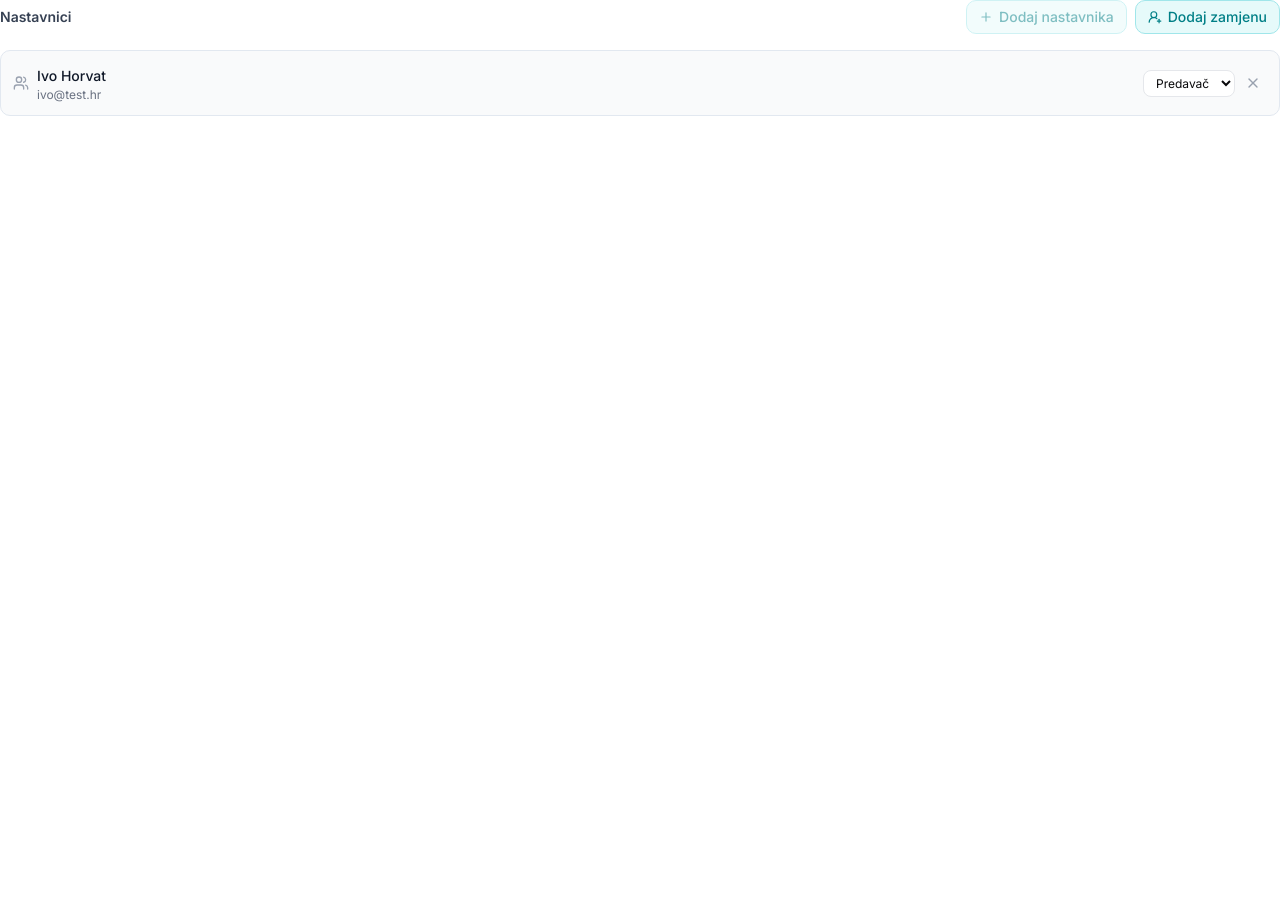
Test: GroupTeachersPanel — Dodaj zamjenu termini › says so inline when the termini cannot be loaded
This screenshot has width=1280, height=900.
What coordinates should you click on to do the following:
click the button "Dodaj zamjenu"
I would click on:
 (1207, 17)
Its box is [1135,0,1279,34].
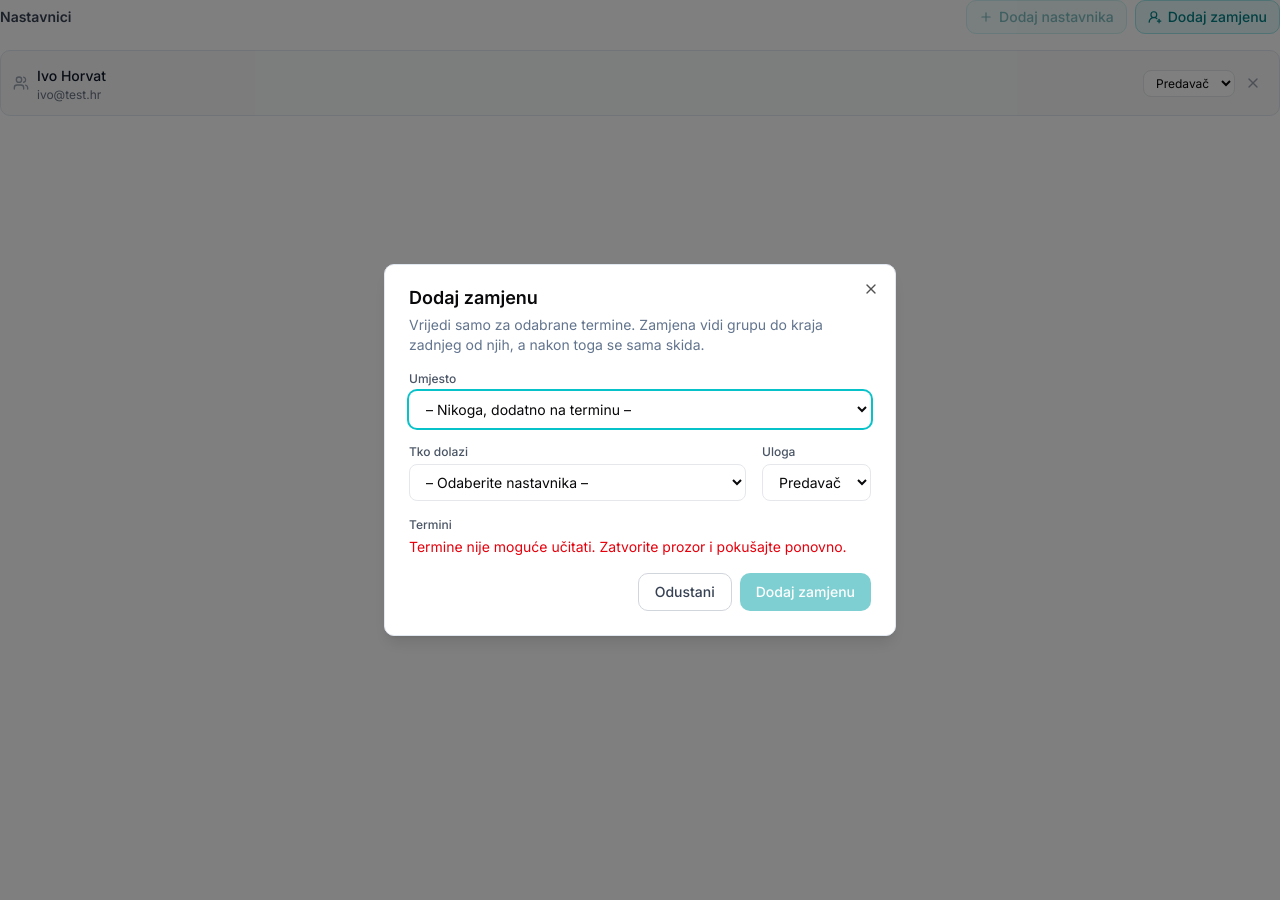
Check: the message shows "Termine nije moguće učitati", box [409,538,847,555]
